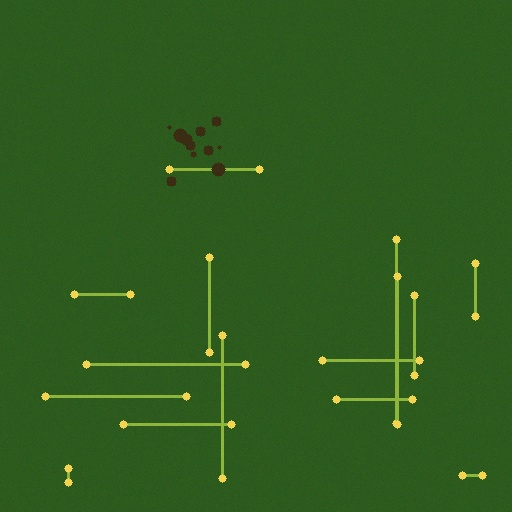contamination: (162, 112, 229, 190)
